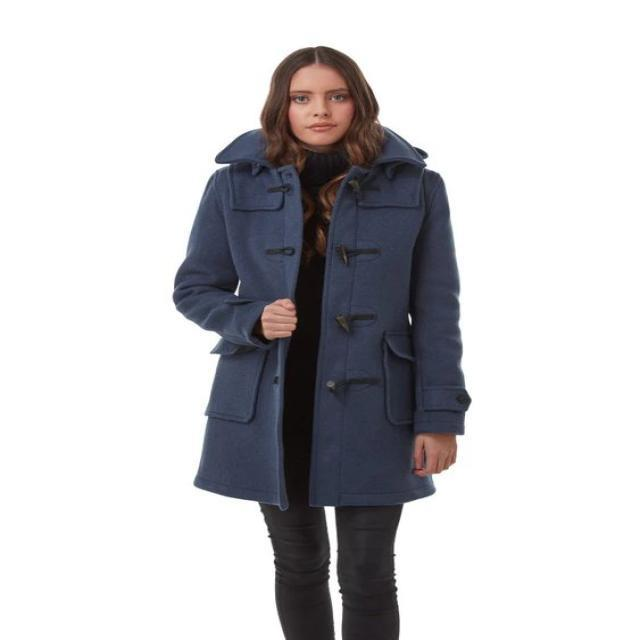coat: (170, 123, 473, 511)
sweater: (292, 149, 359, 354)
trousers: (257, 353, 412, 640)
